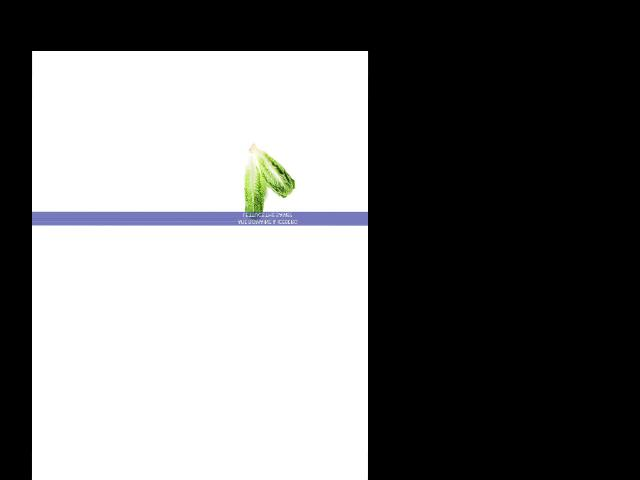lettuce: (249, 136, 292, 201)
